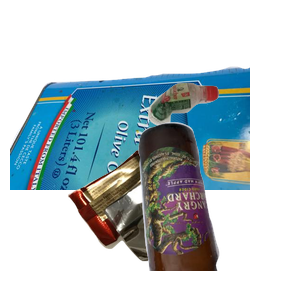glass: (136, 120, 300, 300)
metal: (10, 64, 250, 244)
plastic: (146, 80, 300, 198)
trash: (65, 148, 258, 300)
